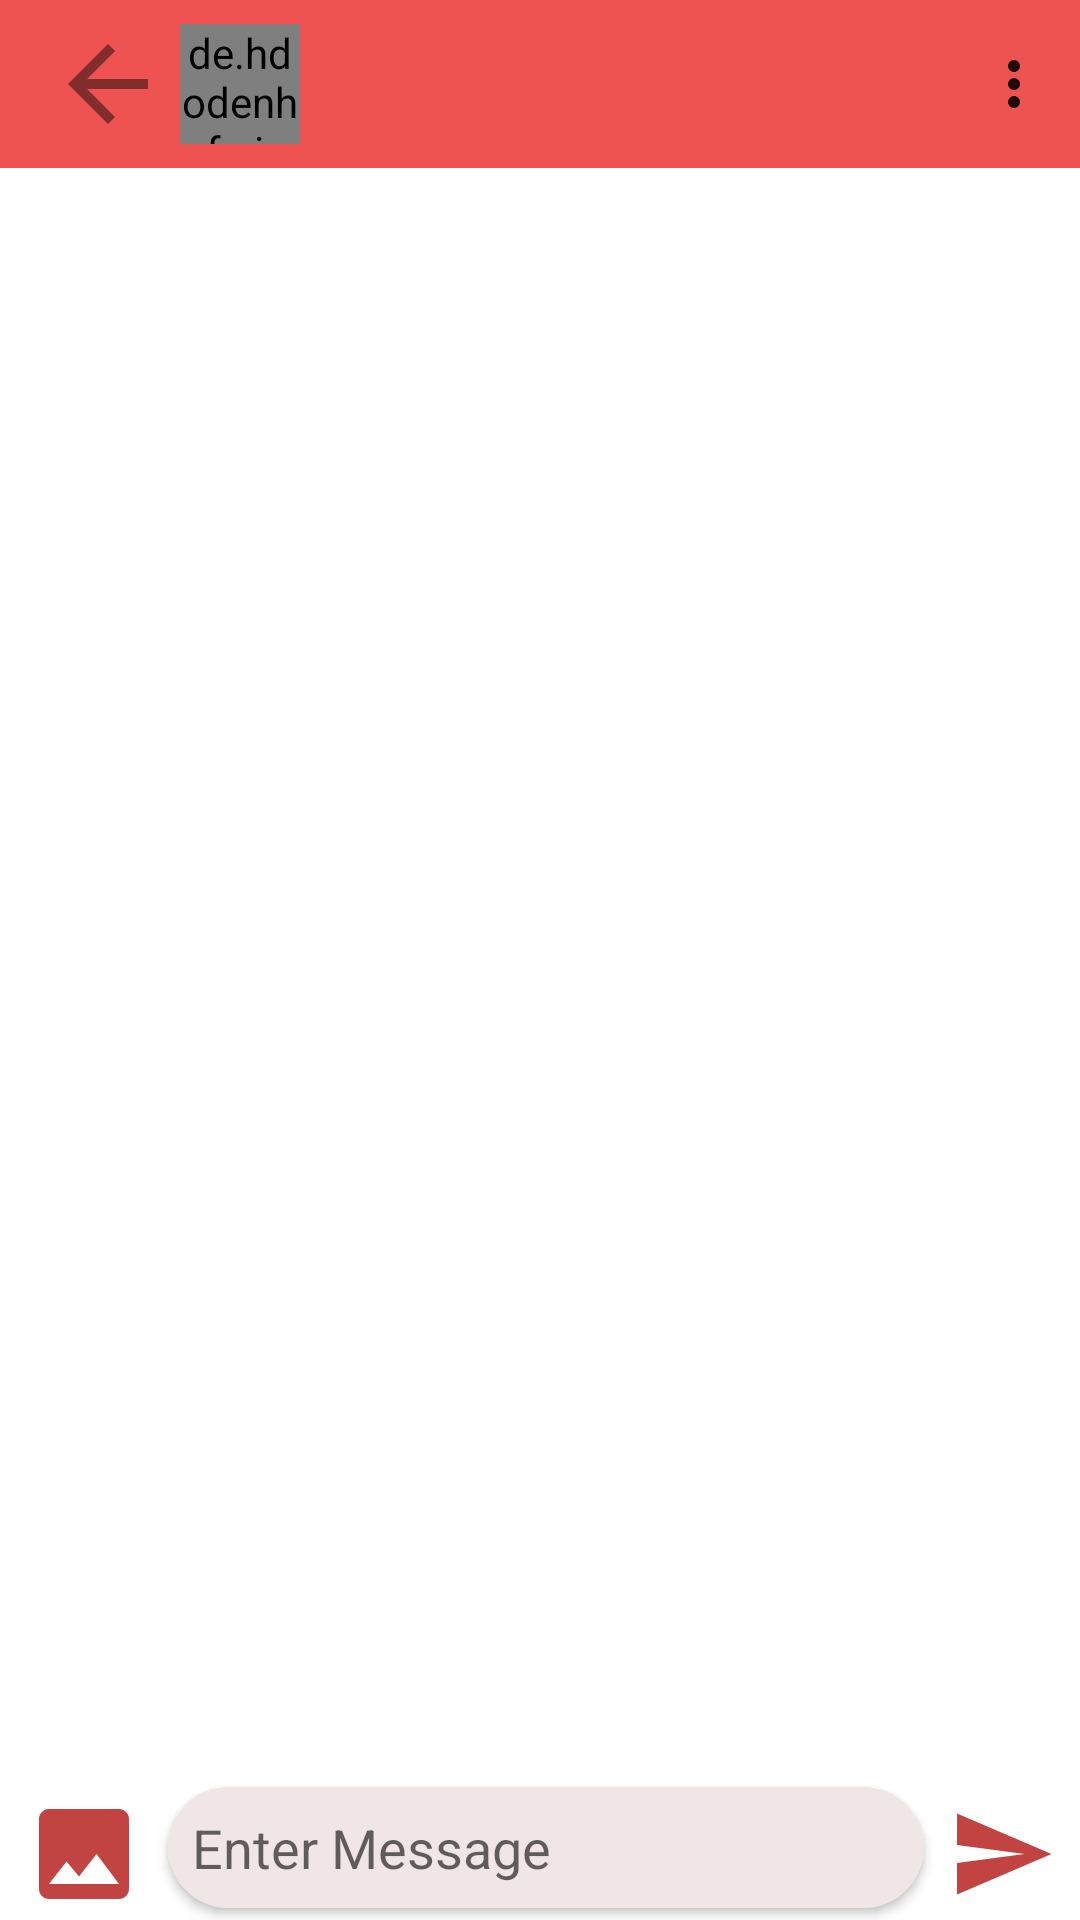

Where to tap for icons on this 1080x1920 app screen, as (x=x, y=y):
back arrow: (x=108, y=84)
send: (x=1004, y=1854)
